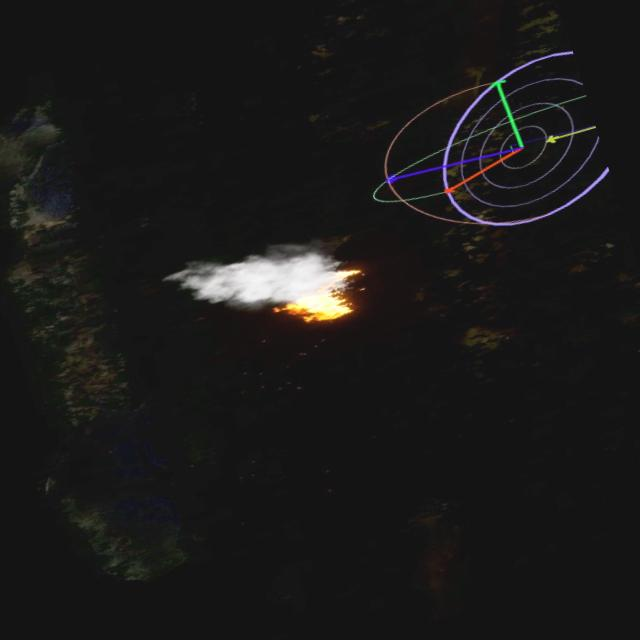fire: (279, 268, 370, 334)
smoke: (165, 222, 353, 338)
